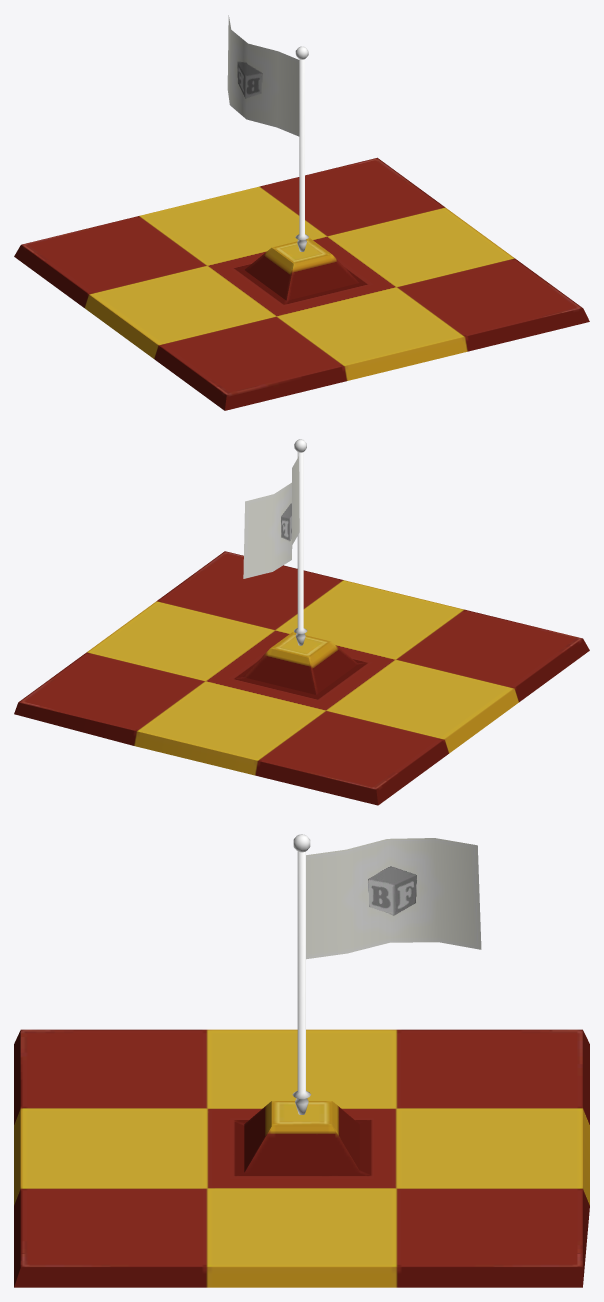
The model's file is battle_flag_01_r.obj.
3 views of the same model, one above another, from view 1: azimuth 30°, elevation 25°; view 2: azimuth 150°, elevation 25°; view 3: azimuth 270°, elevation 25° (orthographic). The views are drawn at different scales.
Parts seen in each view (by area): view 1: battle_flagset, battle_flag, battle_flagbody; view 2: battle_flagset, battle_flag, battle_flagbody; view 3: battle_flagset, battle_flag, battle_flagbody.
Boxes of the visible parts, box(x1,y1,x2,y2) form: battle_flagset: box(14, 157, 589, 410); battle_flag: box(227, 15, 299, 136); battle_flagbody: box(295, 46, 308, 251); battle_flagset: box(14, 551, 589, 805); battle_flag: box(243, 456, 299, 578); battle_flagbody: box(294, 439, 307, 645); battle_flagset: box(14, 1029, 589, 1287); battle_flag: box(306, 838, 481, 959); battle_flagbody: box(292, 834, 311, 1114).
Size of the model in its own units: 3 by 1.9 by 3.
2 materials, 2 textured.
